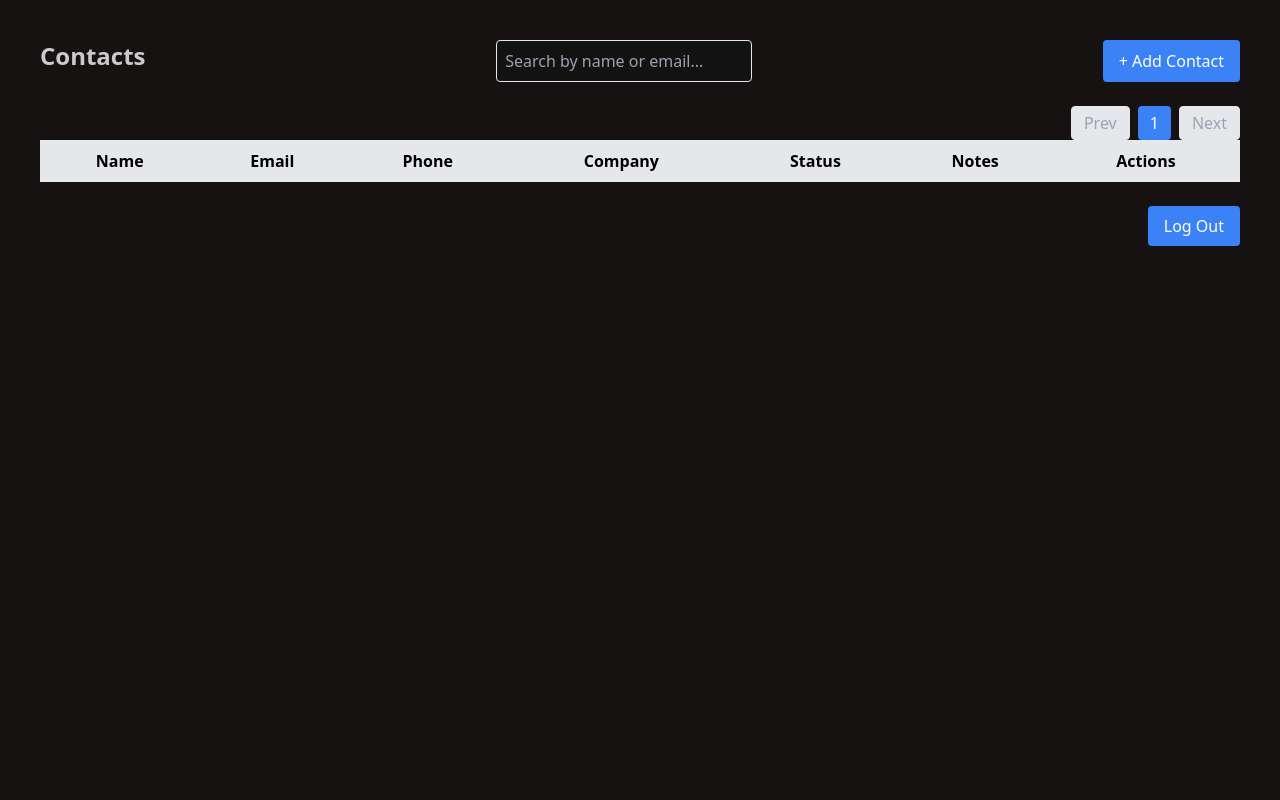
Test: HomePage Component › shows name validation error
This screenshot has width=1280, height=800.
What coordinates should you click on to do the following:
click the button "+ Add Contact"
I would click on:
 (1171, 61)
Its box is left=1103, top=40, right=1240, bottom=82.
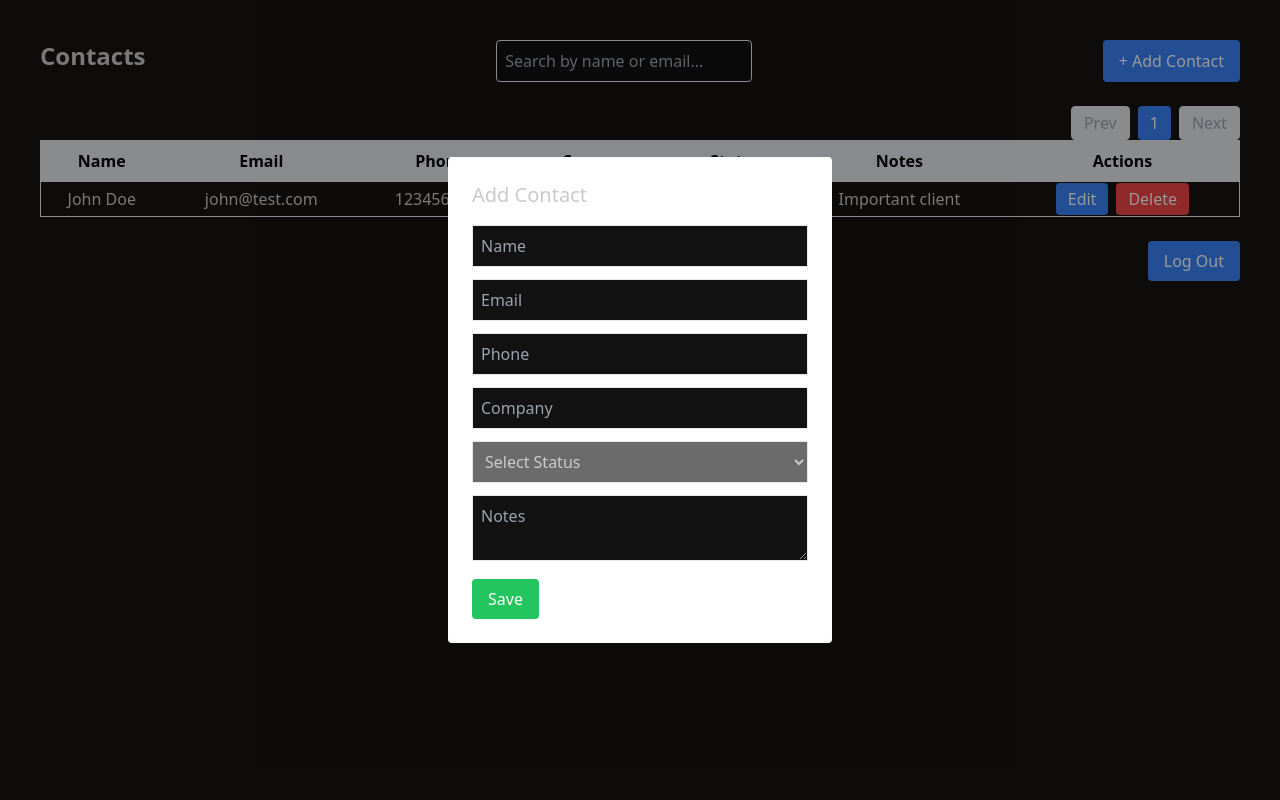
What coordinates should you click on to do the following:
click the button "Save"
I would click on:
 (505, 599)
Its box is left=472, top=579, right=539, bottom=619.
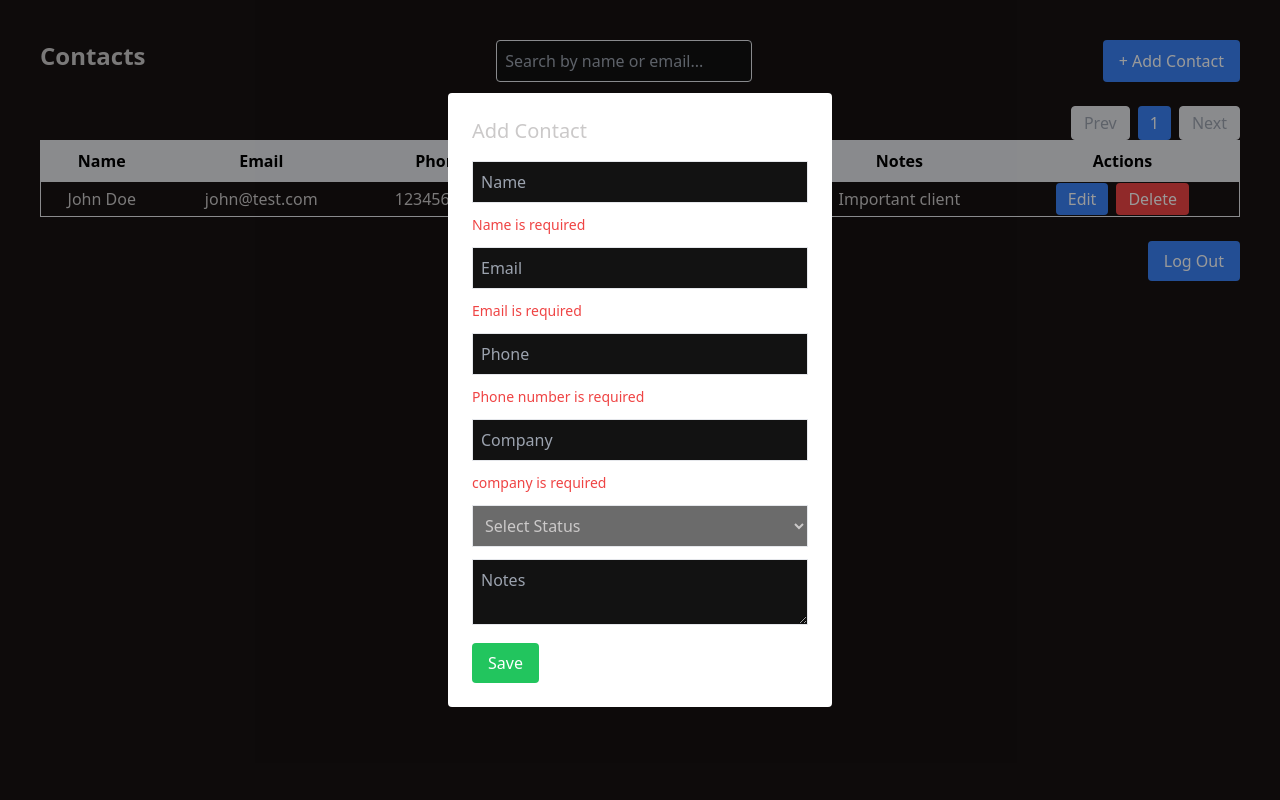
expect the text "Name is required" is shown: met, box left=472, top=215, right=585, bottom=234
